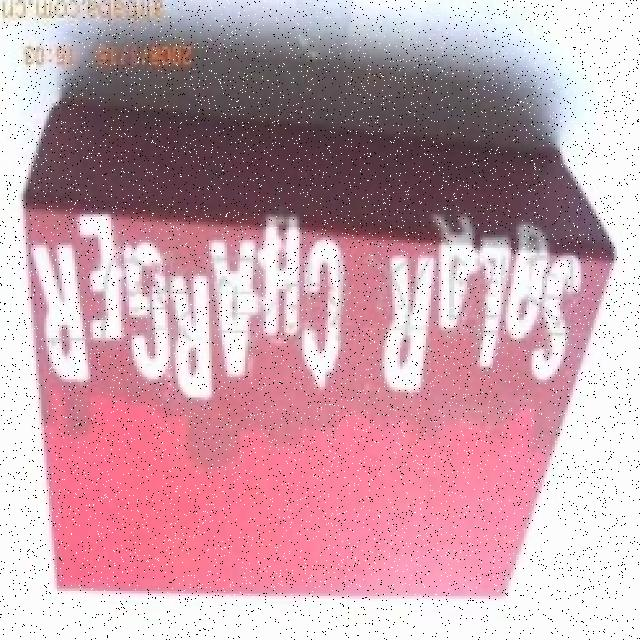box: (7, 81, 600, 615)
